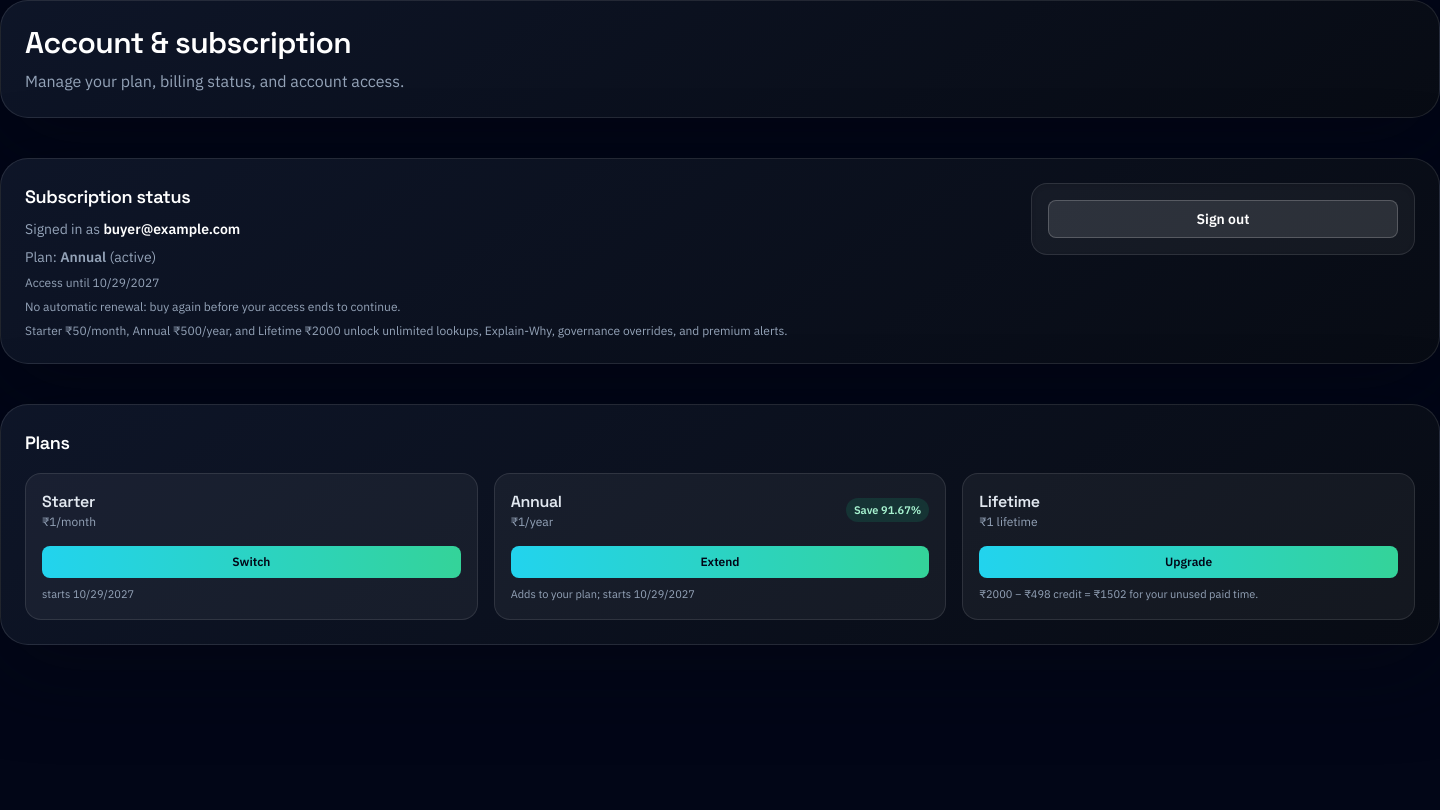
Lifetime upgrade credit on the account page › asks before charging a price that moved since the preview, and stops when declined
This screenshot has width=1440, height=810.
Click the button "Upgrade". click: x=1189, y=562
box: [979,546,1398,578]
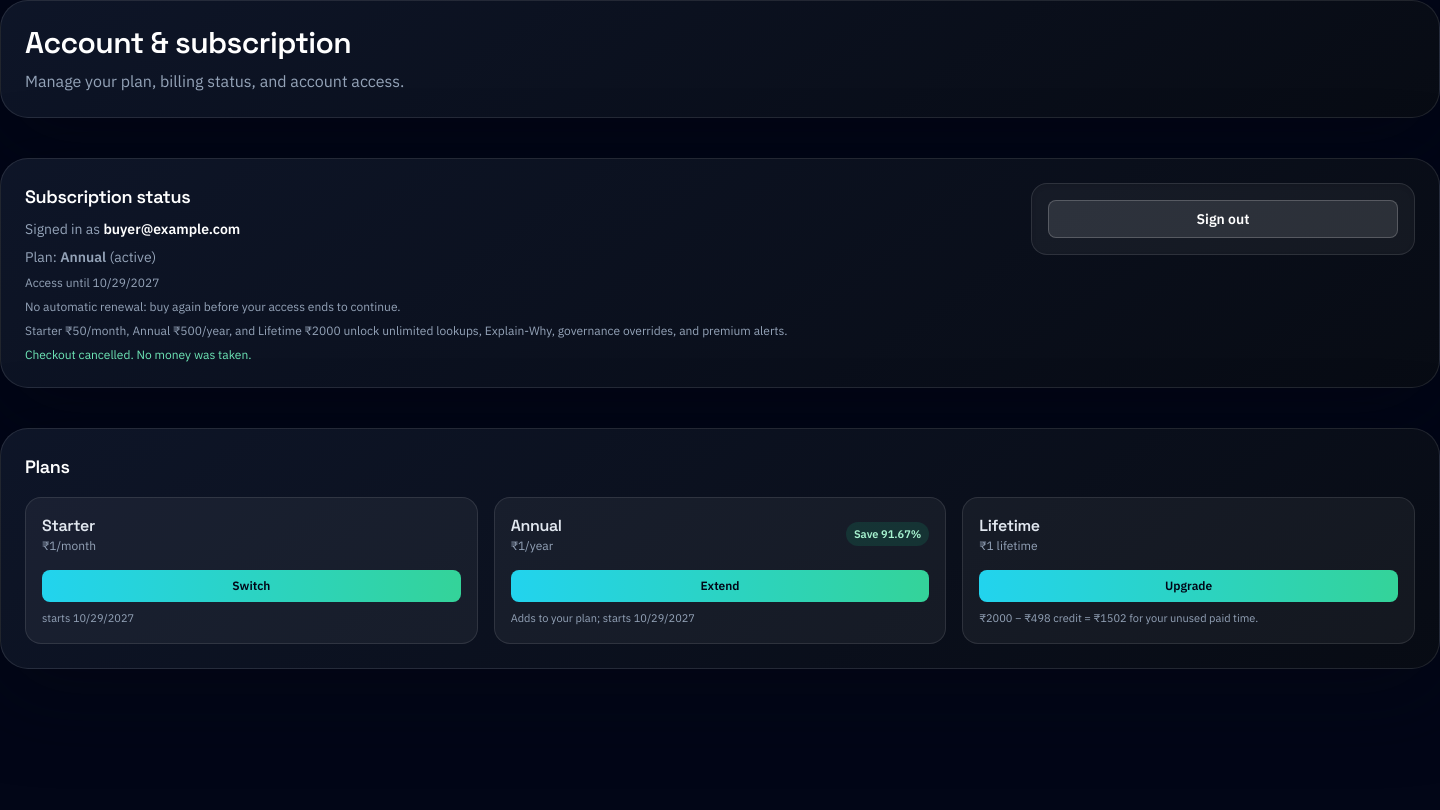
Now the text "Checkout cancelled. No money was taken." is shown, box [25,347,252,362]
